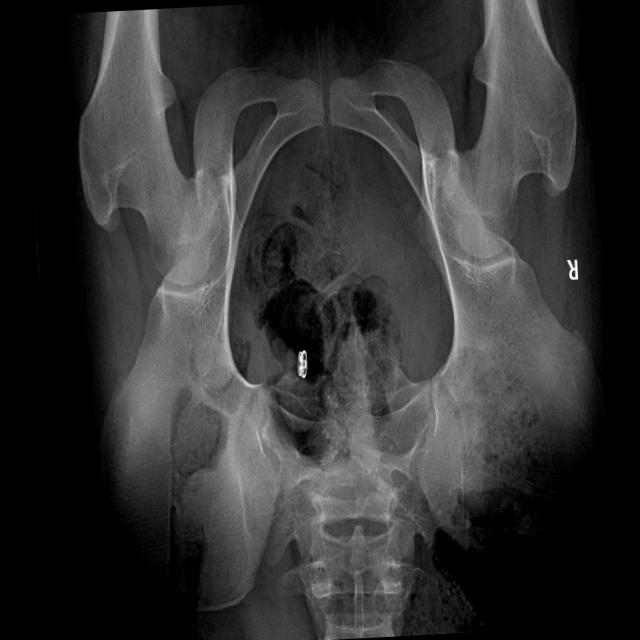normal-left: (77, 8, 221, 285)
normal-right: (441, 0, 576, 258)
